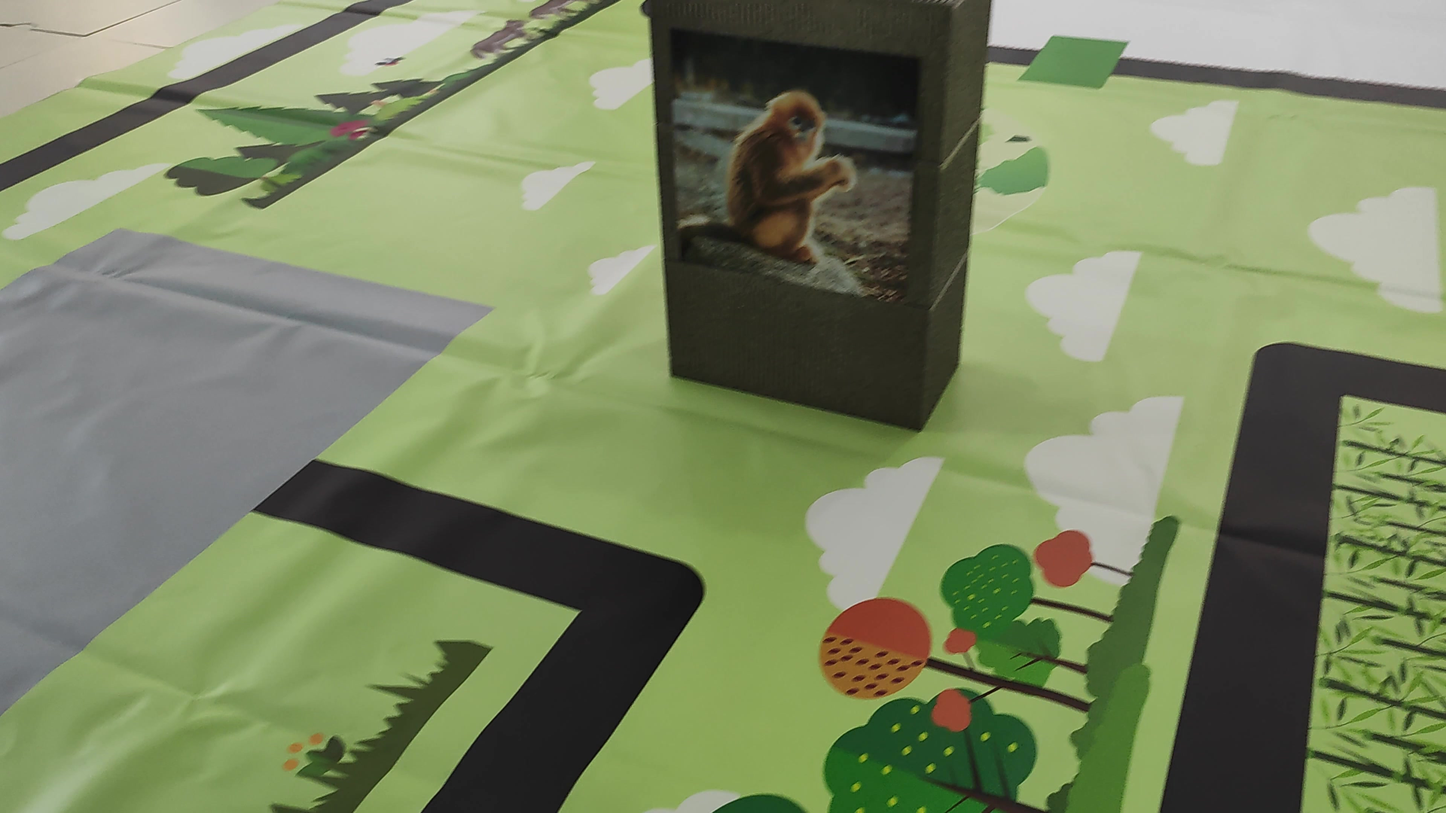monkey: (705, 65, 890, 282)
